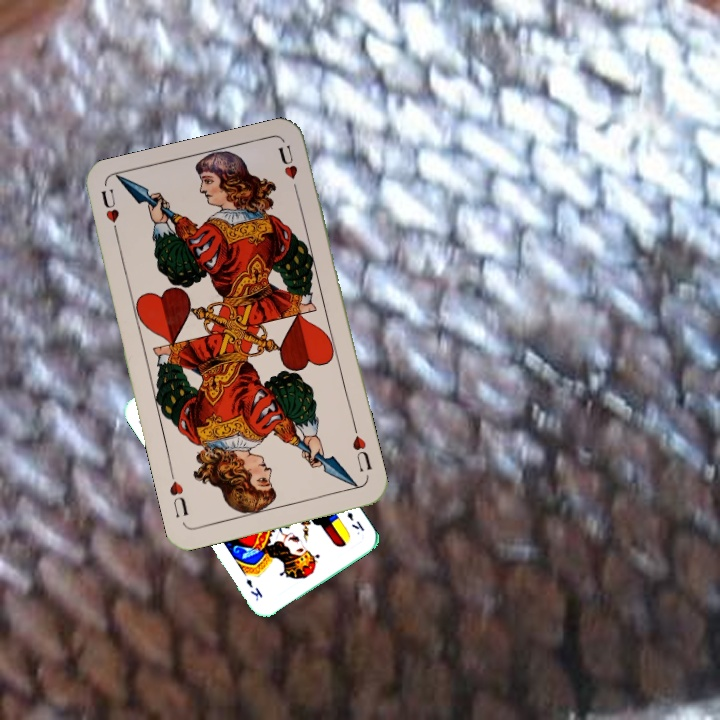EK: (343, 508, 367, 534)
HU: (97, 184, 122, 243), (348, 423, 374, 475)
